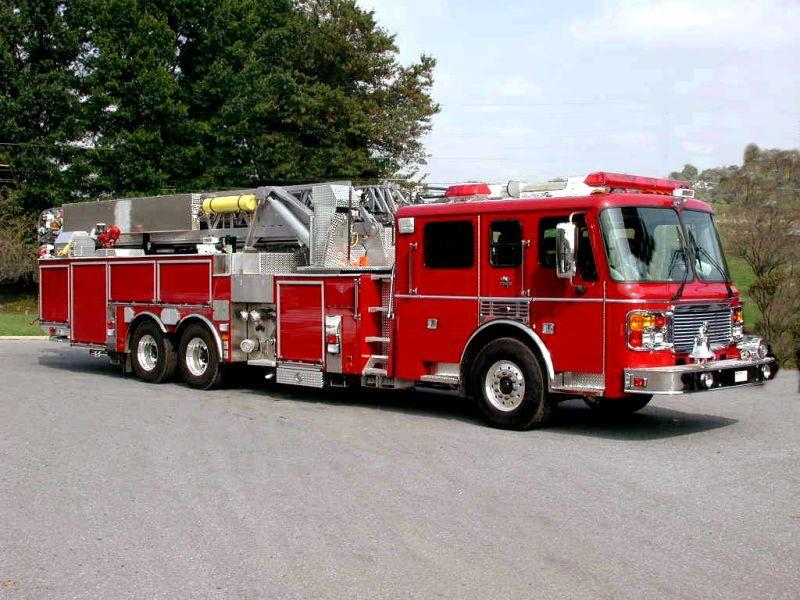Fire-engine: (37, 173, 780, 432)
